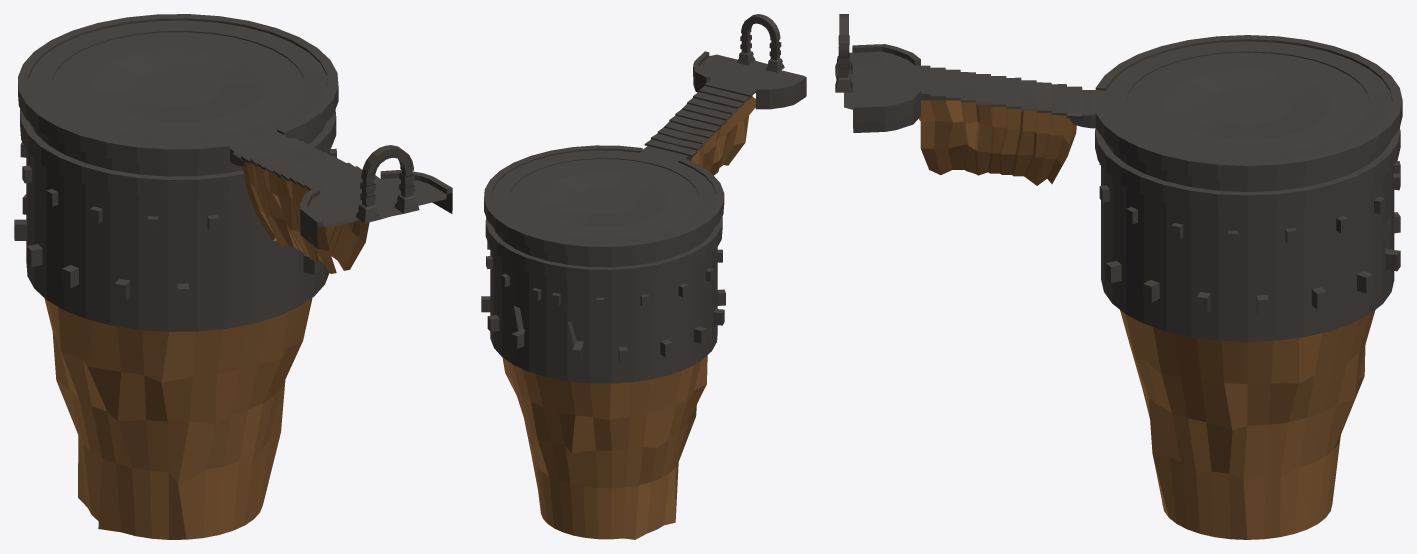
Rendered from Bossarena1.fbx.
3 views of the same model, side by side, from view 1: azimuth 30°, elevation 25°; view 2: azimuth 150°, elevation 25°; view 3: azimuth 270°, elevation 25° (orthographic). The views are drawn at different scales.
Visible parts, largest first — view 1: Stone_Arch1; view 2: Stone_Arch1; view 3: Stone_Arch1.
Boxes of the visible parts, x1,y1,x2,y2 form: Stone_Arch1: (14, 14, 452, 539); Stone_Arch1: (481, 14, 806, 539); Stone_Arch1: (835, 14, 1402, 539).
Bounding box in the file's own units: 2795 × 4781 × 5025.
